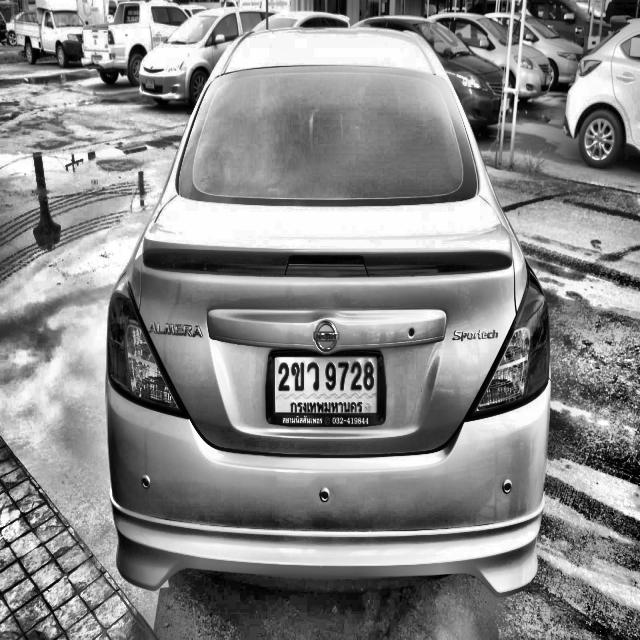license-plate: (265, 347, 386, 429), (144, 77, 157, 92), (92, 55, 100, 65)
